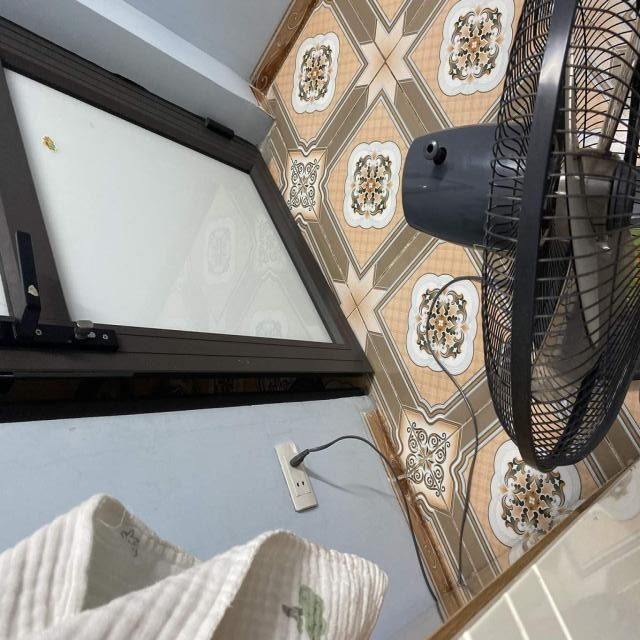outlet: (274, 442, 318, 513)
